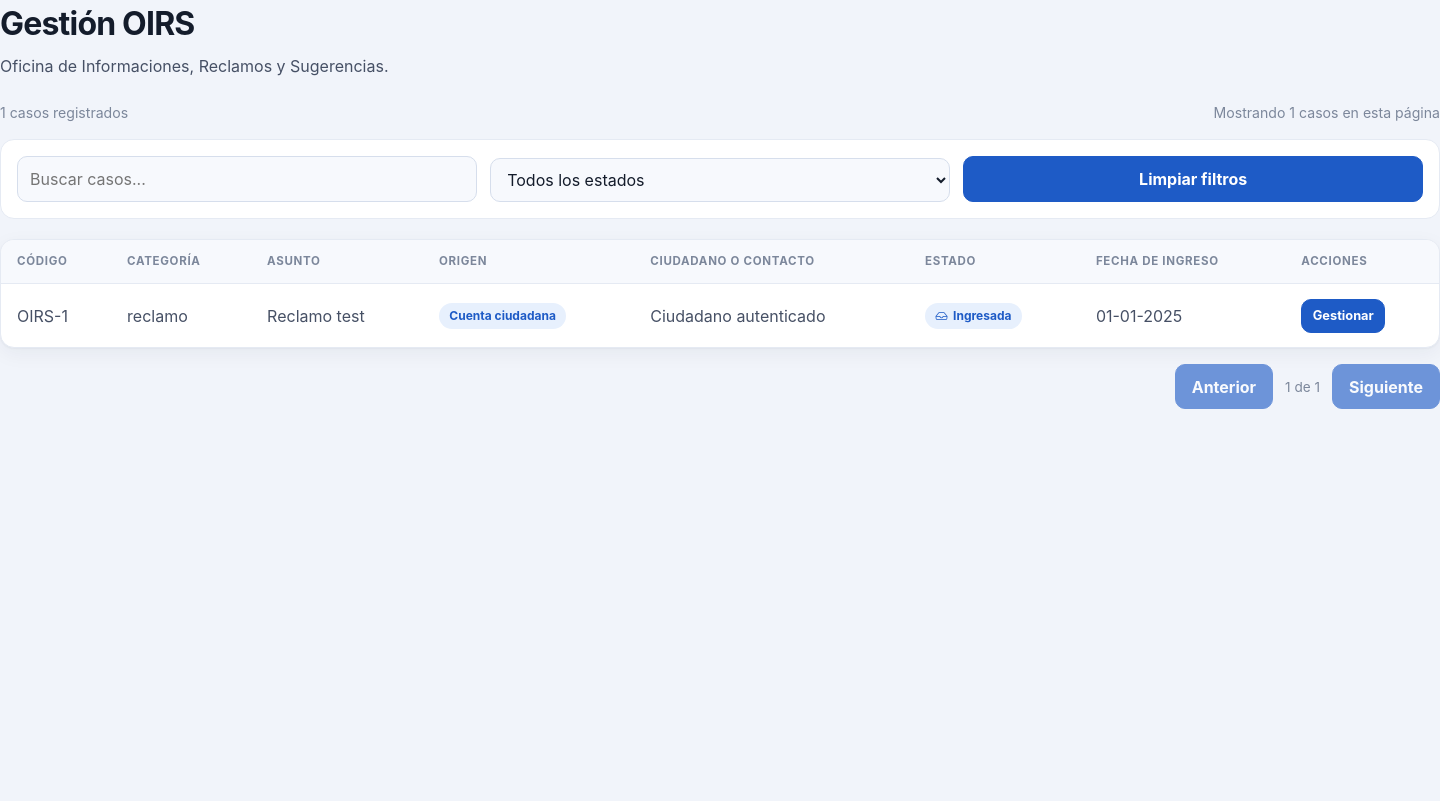
Test: OirsManagementPage › gestiona un caso OIRS
Click the button "Gestionar" at (1343, 316), box top-left (1301, 299), bottom-right (1385, 333)
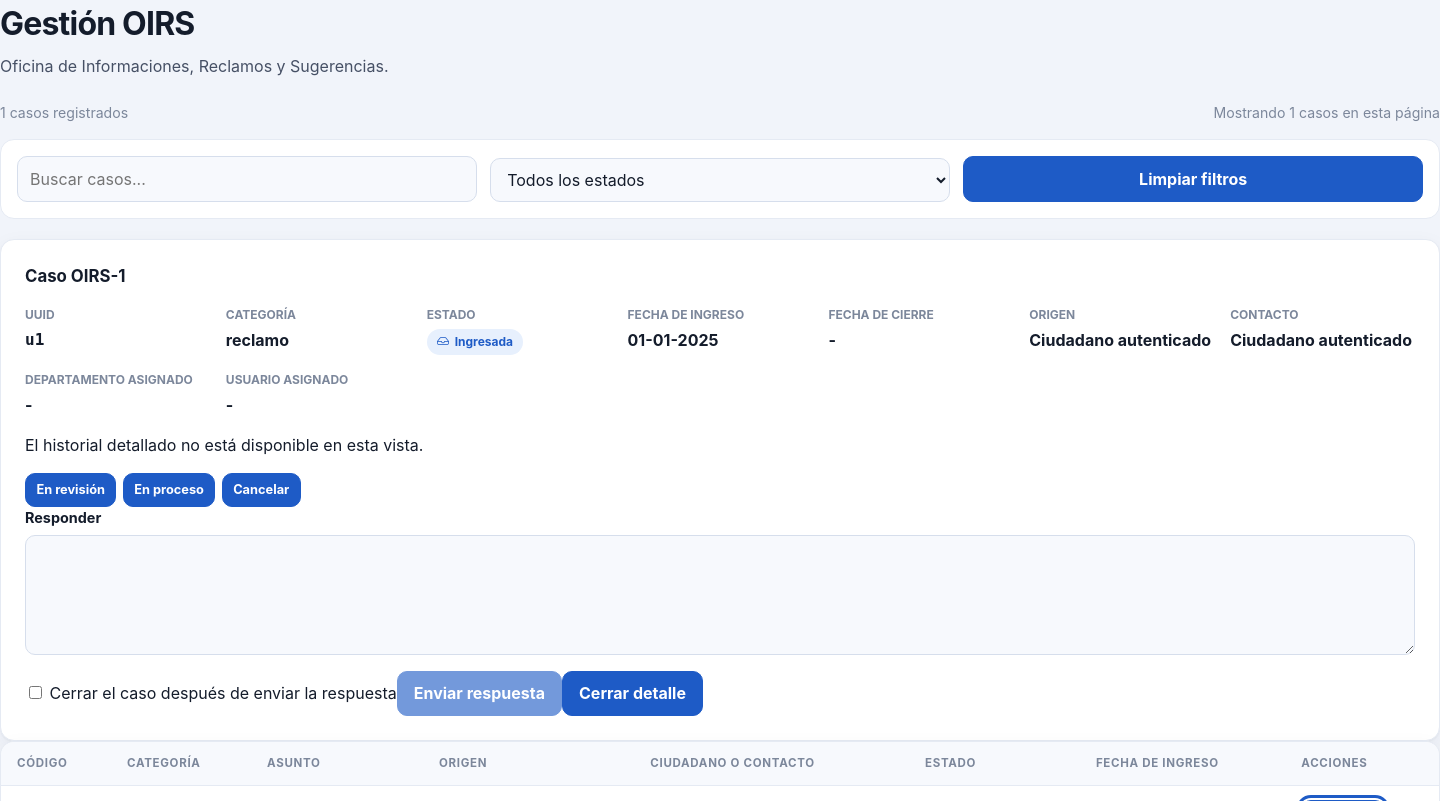
Expected: the heading "Caso OIRS-1" is shown, top-left (25, 266), bottom-right (126, 286)
Expected: the 1st text "Ciudadano autenticado" is shown, top-left (1029, 328), bottom-right (1214, 352)
